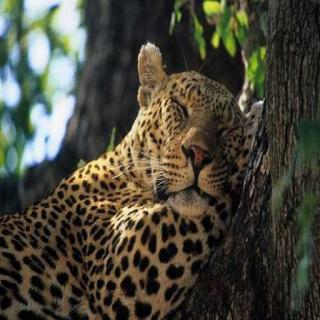Leopard: (25, 76, 303, 320)
